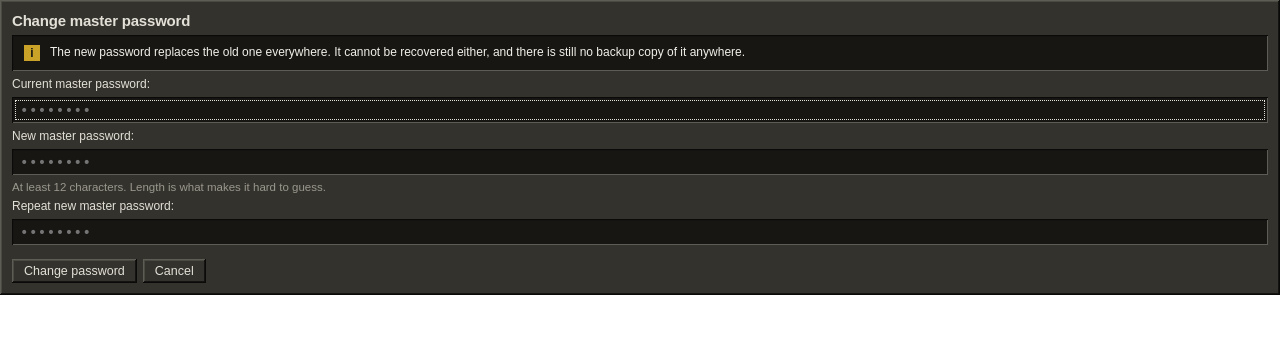
ChangeMasterPasswordForm › refuses a new password that does not match its repeat
In the password field labelled "Current master password:": (640, 110) [12,97,1268,123], type "the old password"
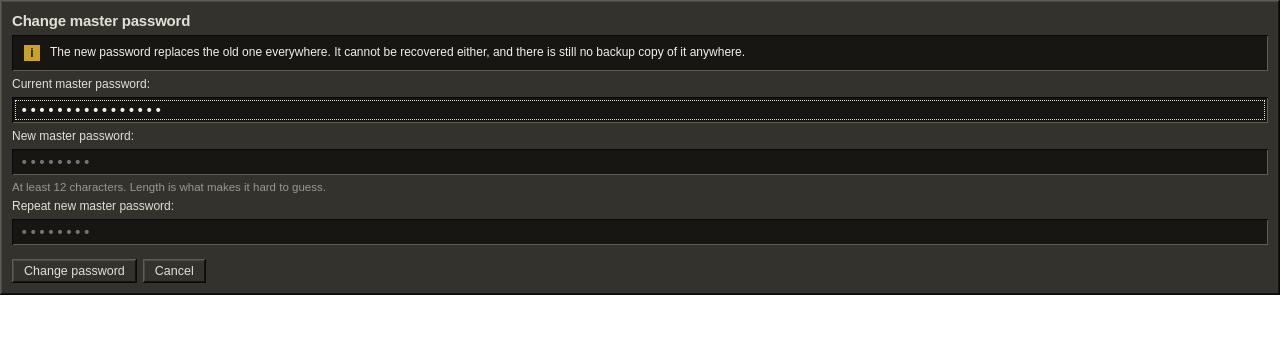
In the password field labelled "New master password:": (640, 162) [12,149,1268,175], type "a brand new password"
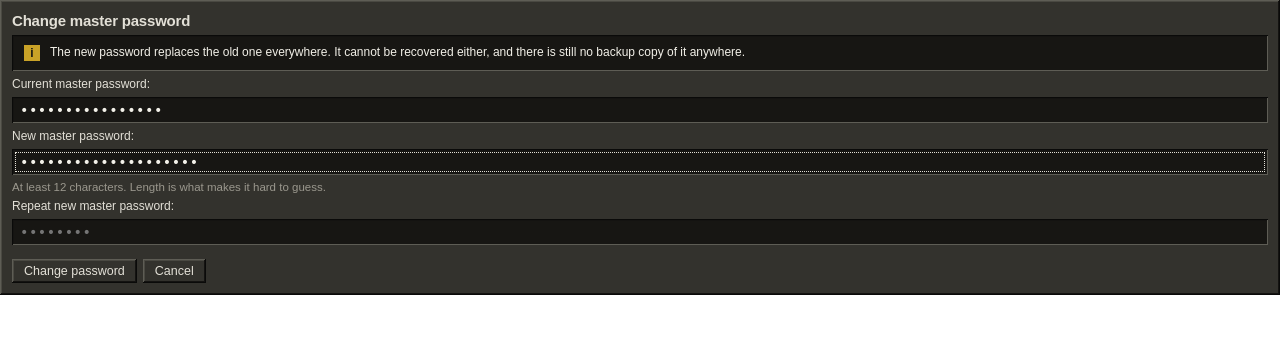
In the password field labelled "Repeat new master password:": (640, 232) [12,219,1268,245], type "a different password"
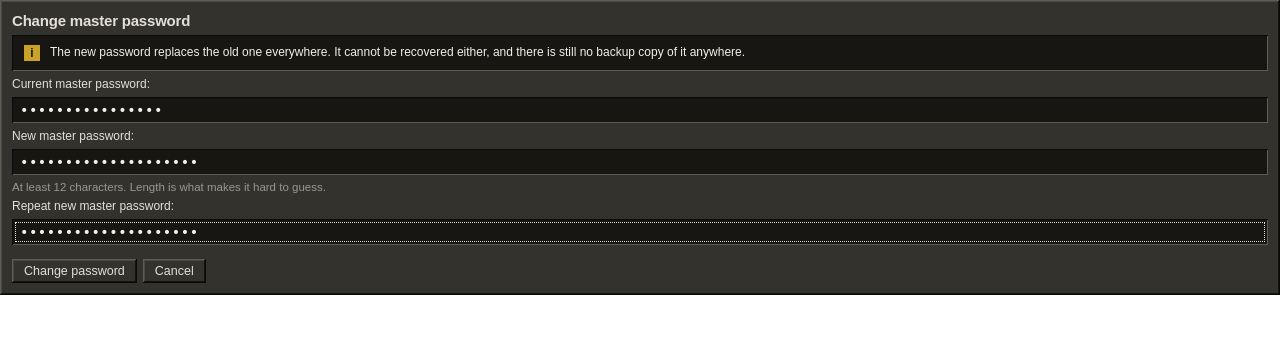
Click the button "Change password": (74, 271) [12,259,137,283]
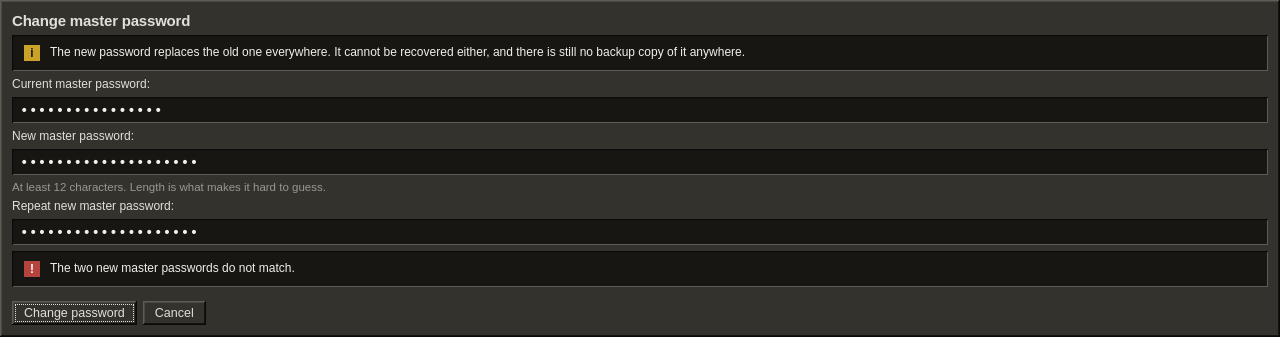
Result: the message shows "do not match" at [50,261,295,275]
